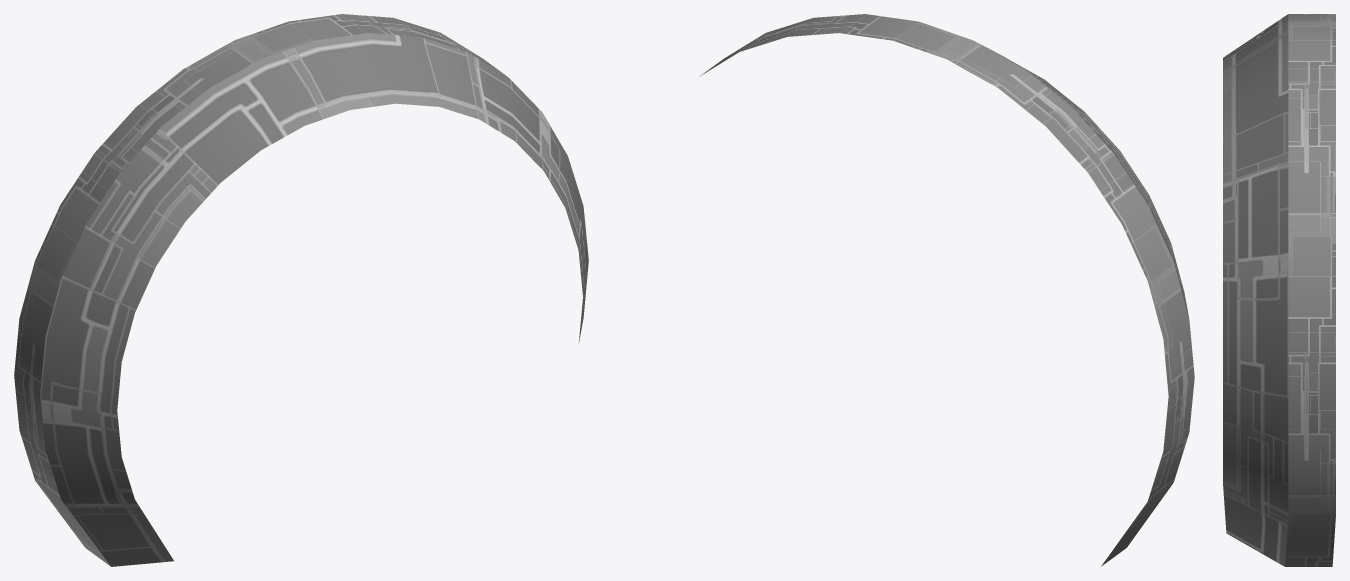
File: SM_arch_01.glb
3 views of the same model, side by side, from view 1: azimuth 30°, elevation 25°; view 2: azimuth 150°, elevation 25°; view 3: azimuth 270°, elevation 25° (orthographic). The views are drawn at different scales.
Visible parts, largest first — view 1: SM_arch_01; view 2: SM_arch_01; view 3: SM_arch_01.
Part boxes in pixels (bbox=[...]): SM_arch_01: bbox=[14, 14, 588, 566]; SM_arch_01: bbox=[699, 14, 1194, 566]; SM_arch_01: bbox=[1223, 14, 1335, 566].
Bounding box in the file's own units: 7.26 × 6 × 1.41.
2 materials, 2 textured.
